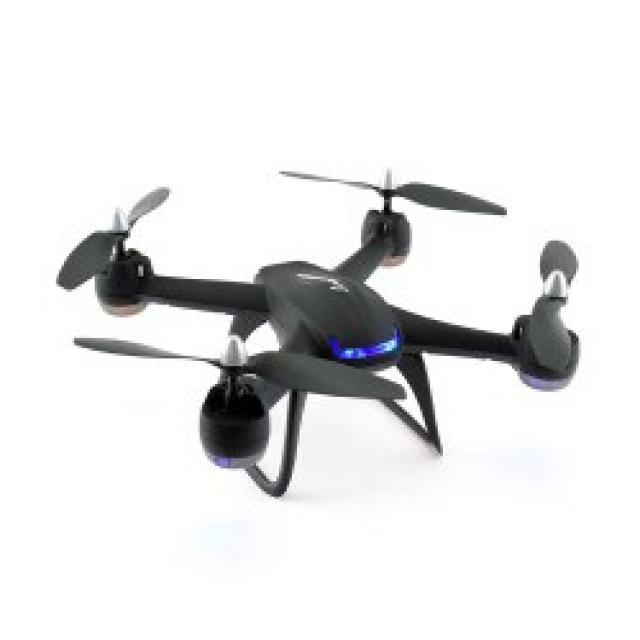drones: (38, 147, 586, 520)
